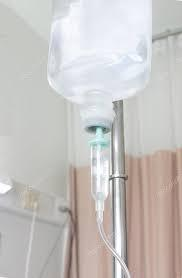Iv_Bottle: (48, 0, 151, 105)
